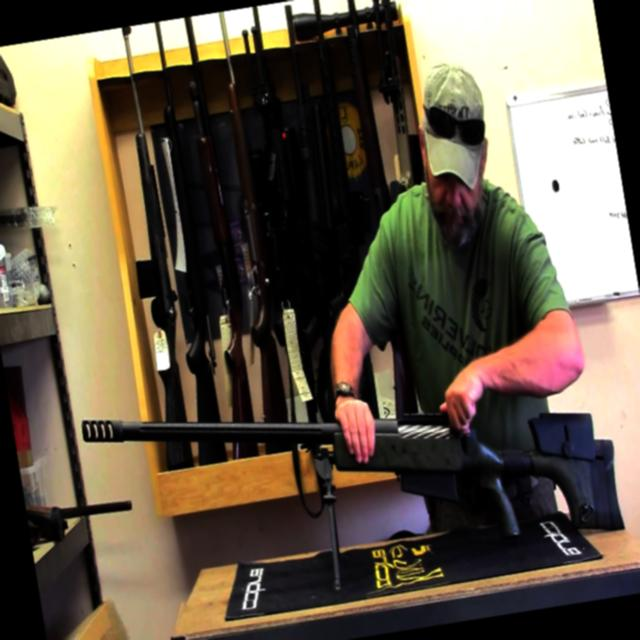rifle: (66, 326, 634, 628)
